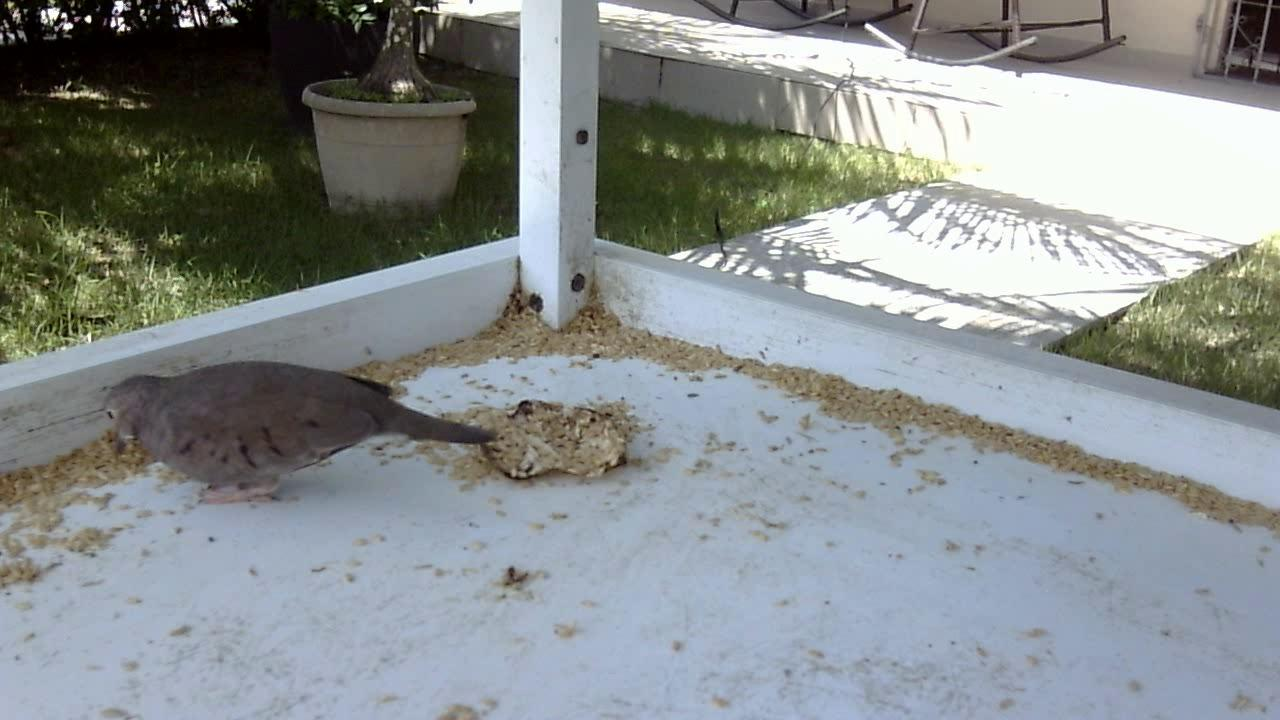rolinha: (96, 356, 504, 513)
